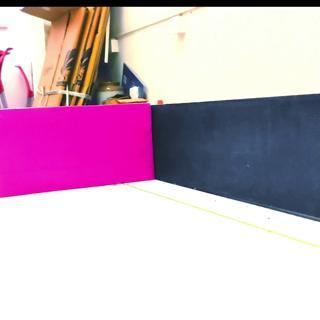xparking: (1, 109, 148, 193)
